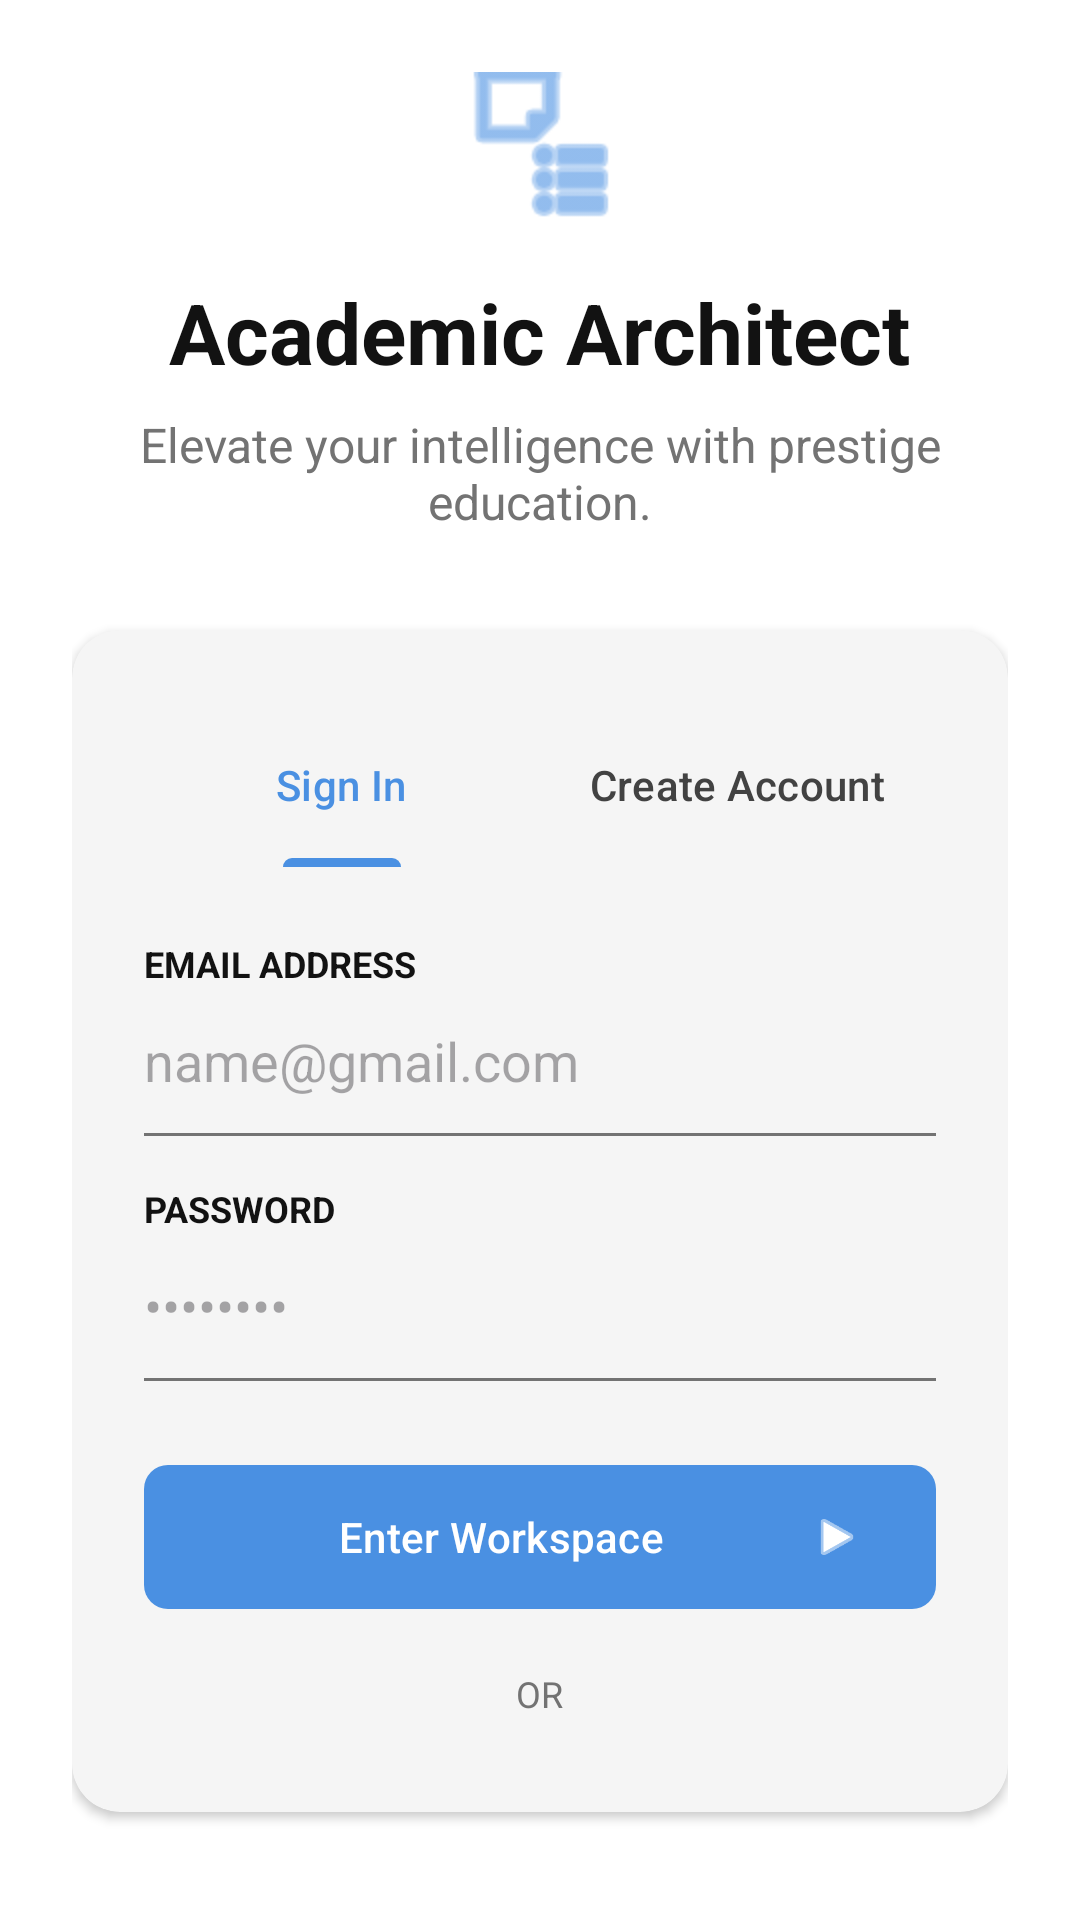

Named icons in this screenshot (1080×1920) and their bounding boxes, (x1, y1, x2, y2):
agenda: (474, 72, 608, 216)
